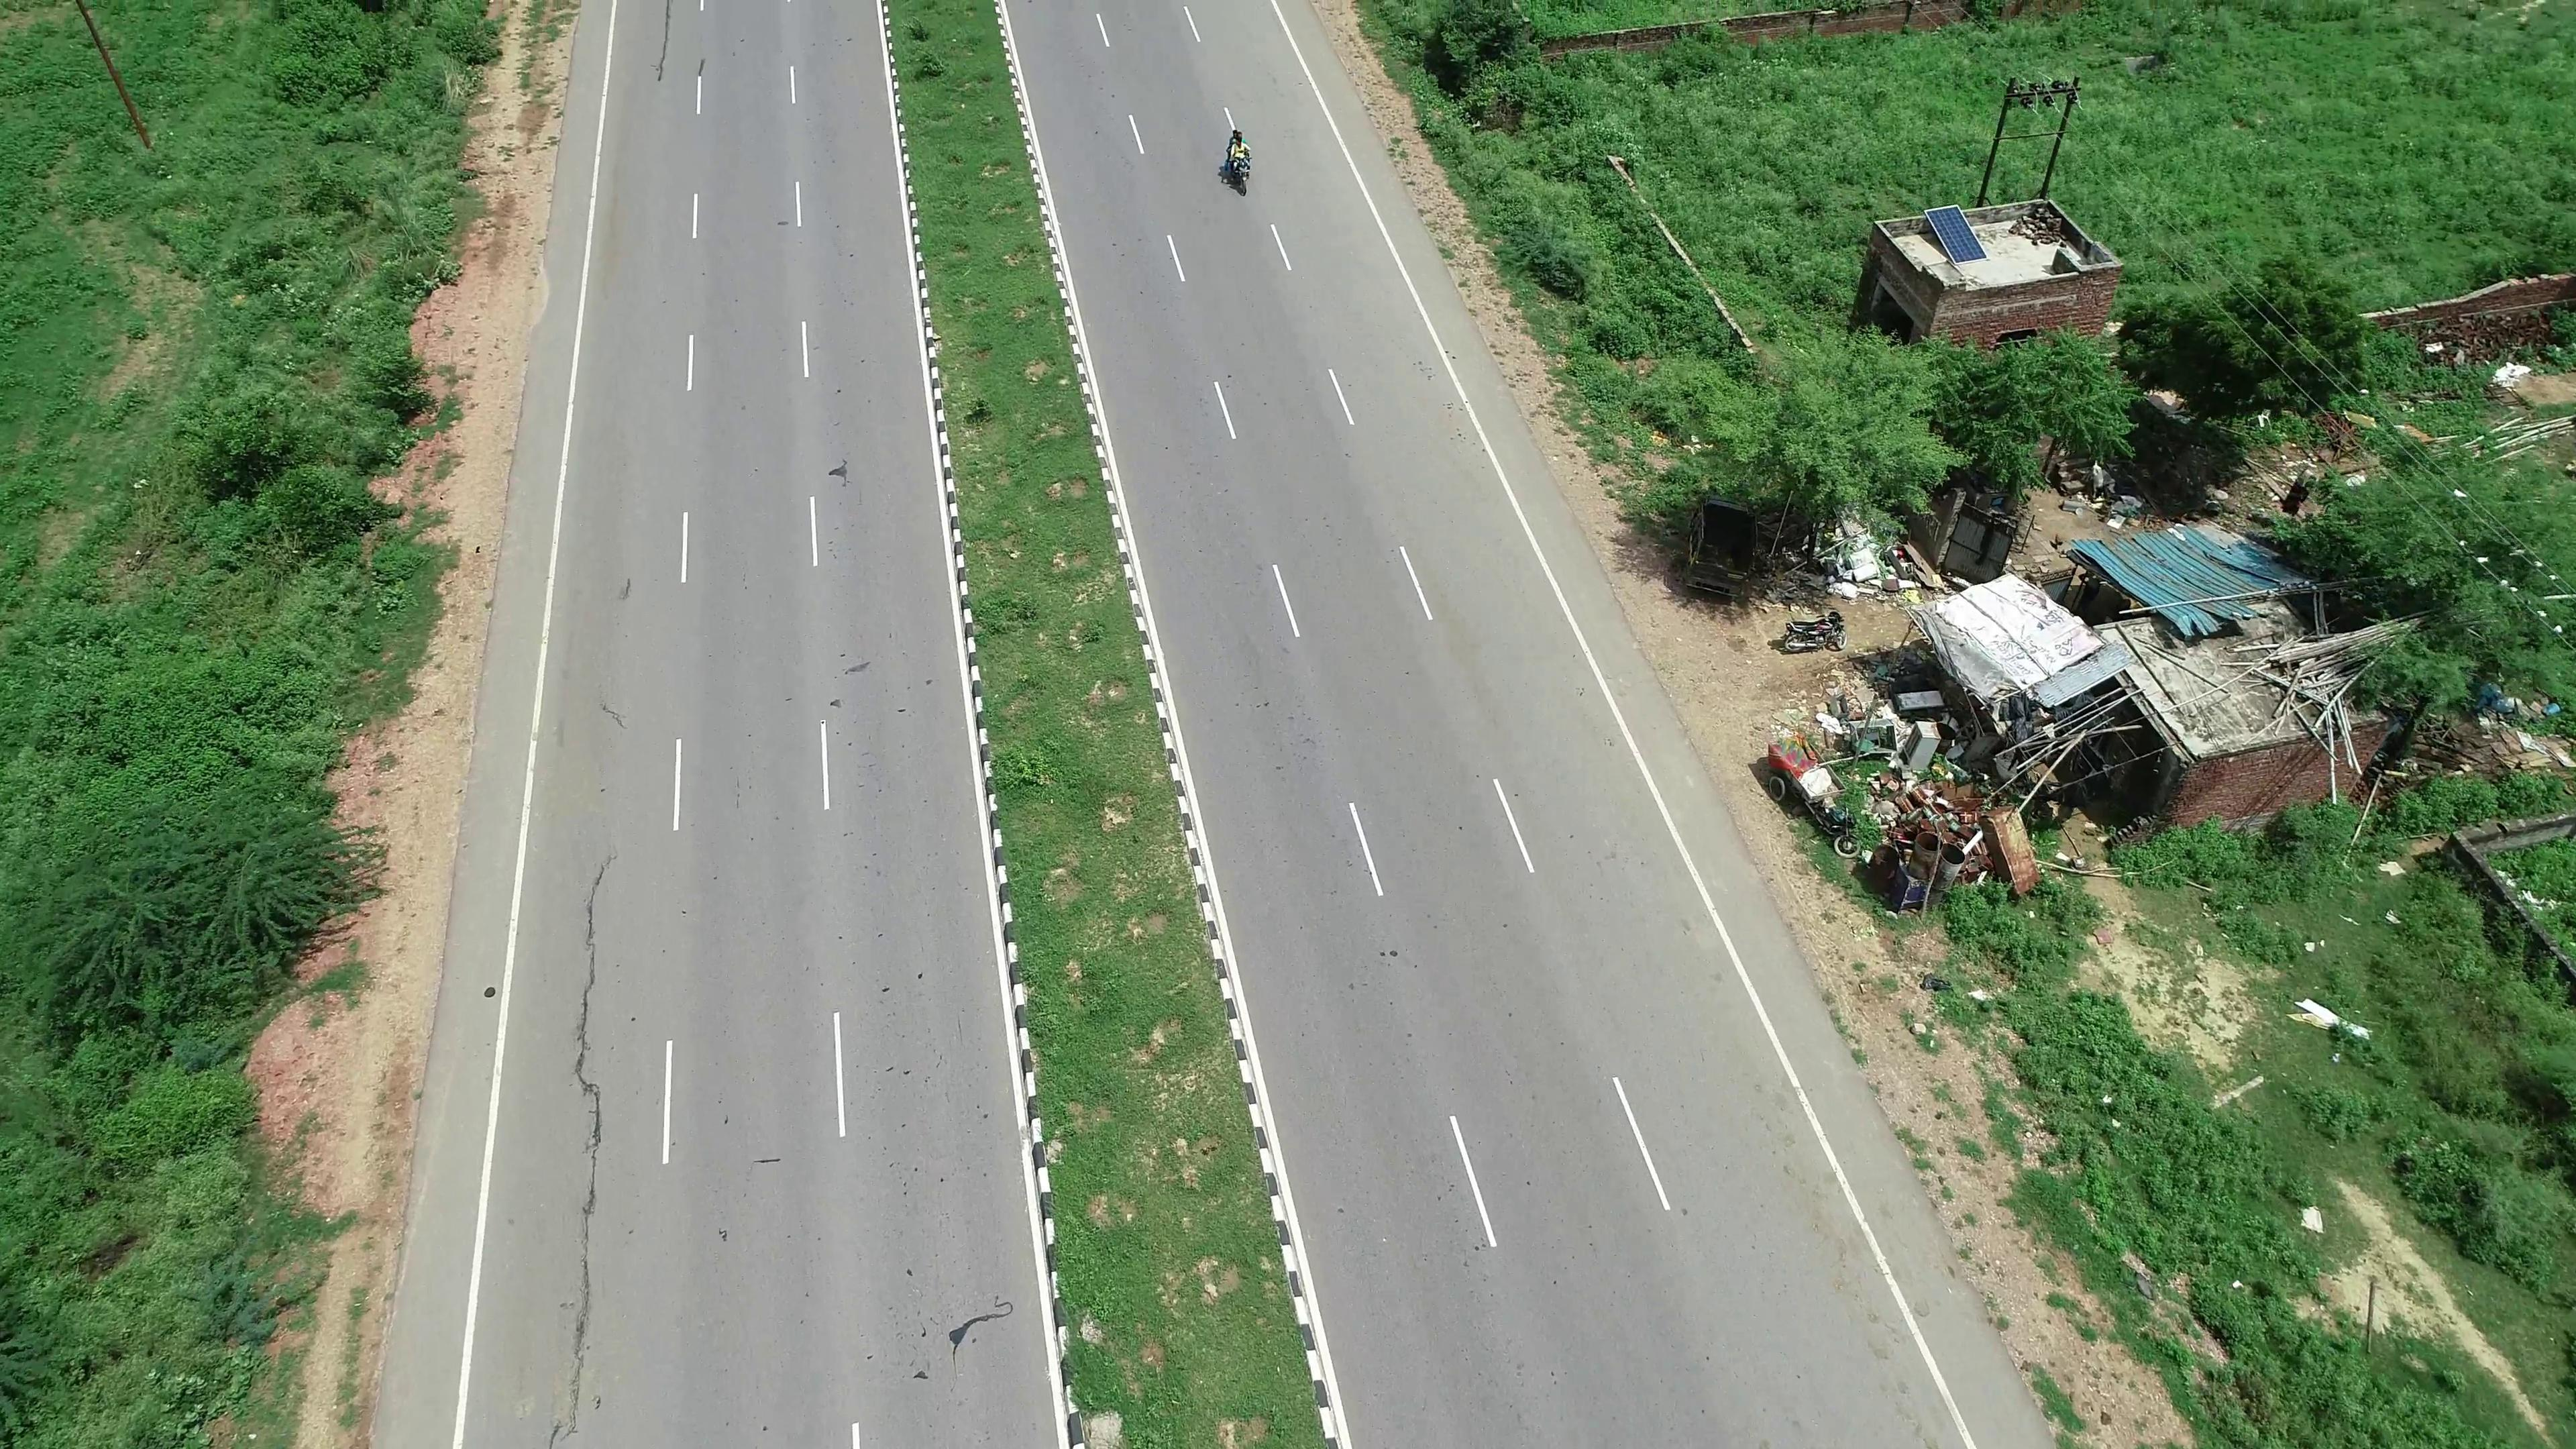Longitudinal_cracks: (545, 856, 626, 1430)
